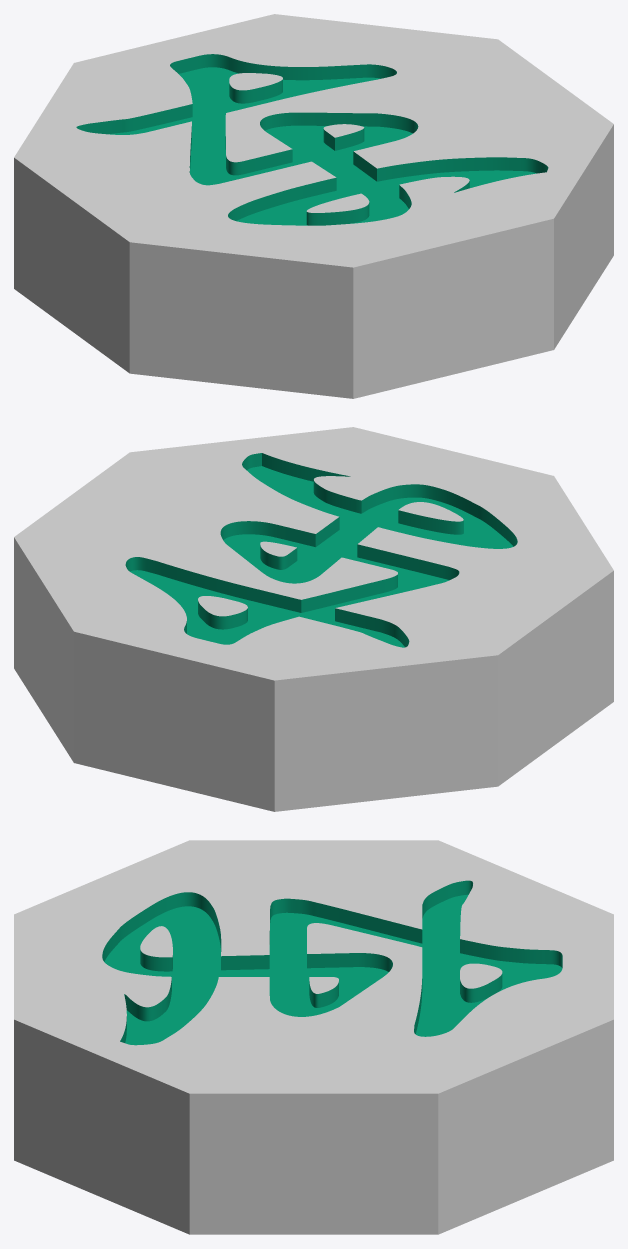
The picture shows the model from 3 angles, top to bottom: view 1: azimuth 30°, elevation 25°; view 2: azimuth 150°, elevation 25°; view 3: azimuth 270°, elevation 25°; orthographic projection. The views are drawn at different scales.
Parts seen in each view (by area): view 1: Mesh53; view 2: Mesh53; view 3: Mesh53.
Part boxes in pixels (left/top/right/bottom): Mesh53: left=14, top=14, right=613, bottom=398; Mesh53: left=14, top=427, right=613, bottom=811; Mesh53: left=14, top=840, right=613, bottom=1234.
Size of the model in its own units: 2700 by 700 by 2700.
